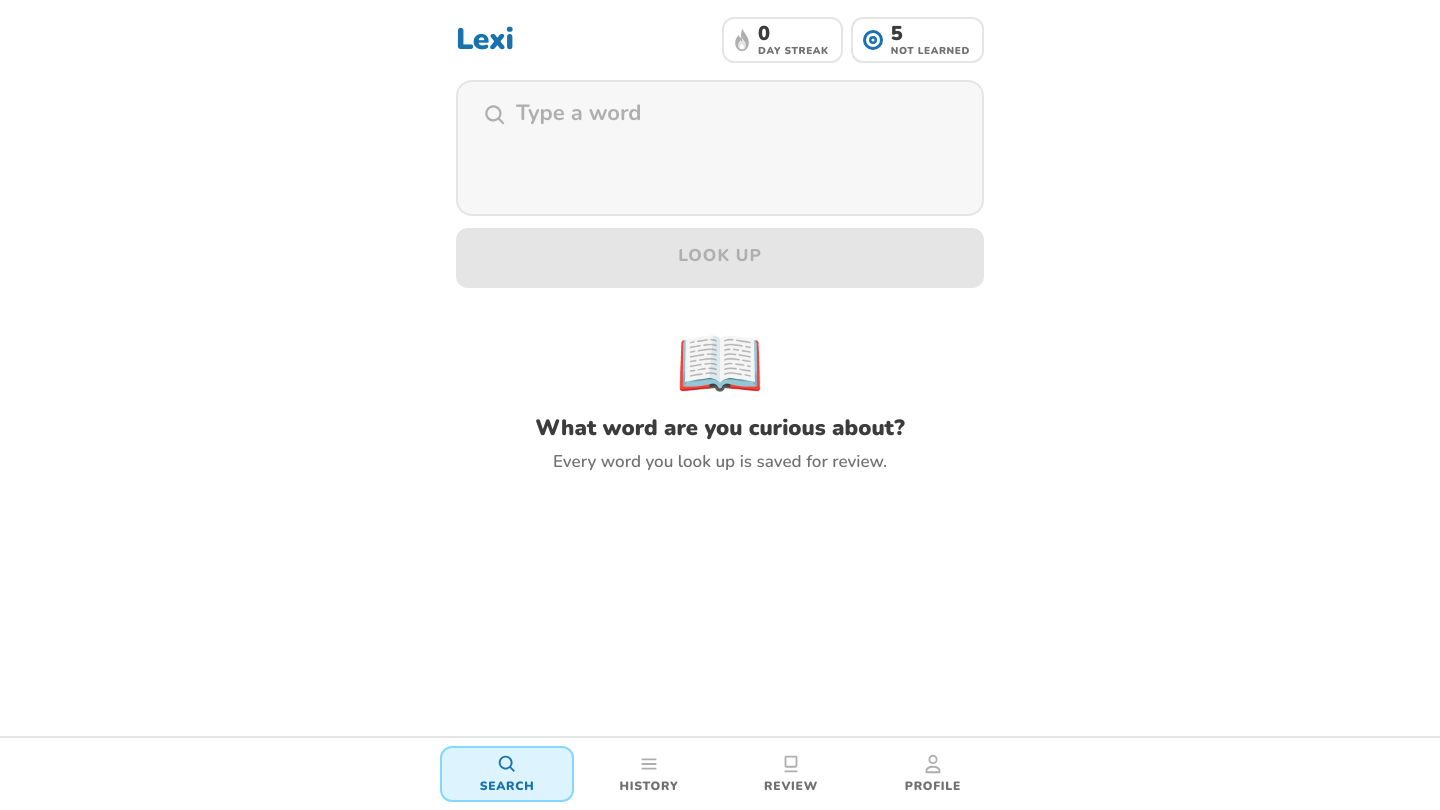
Lexi › five reviewed cards in a day make a streak, and the Streak screen shows it
This screenshot has width=1440, height=810.
Later steps or results of the test are not shown.
Step 1. Click the button with aria-label "Streak: 0 days" → (782, 40), box [722,17,843,63]
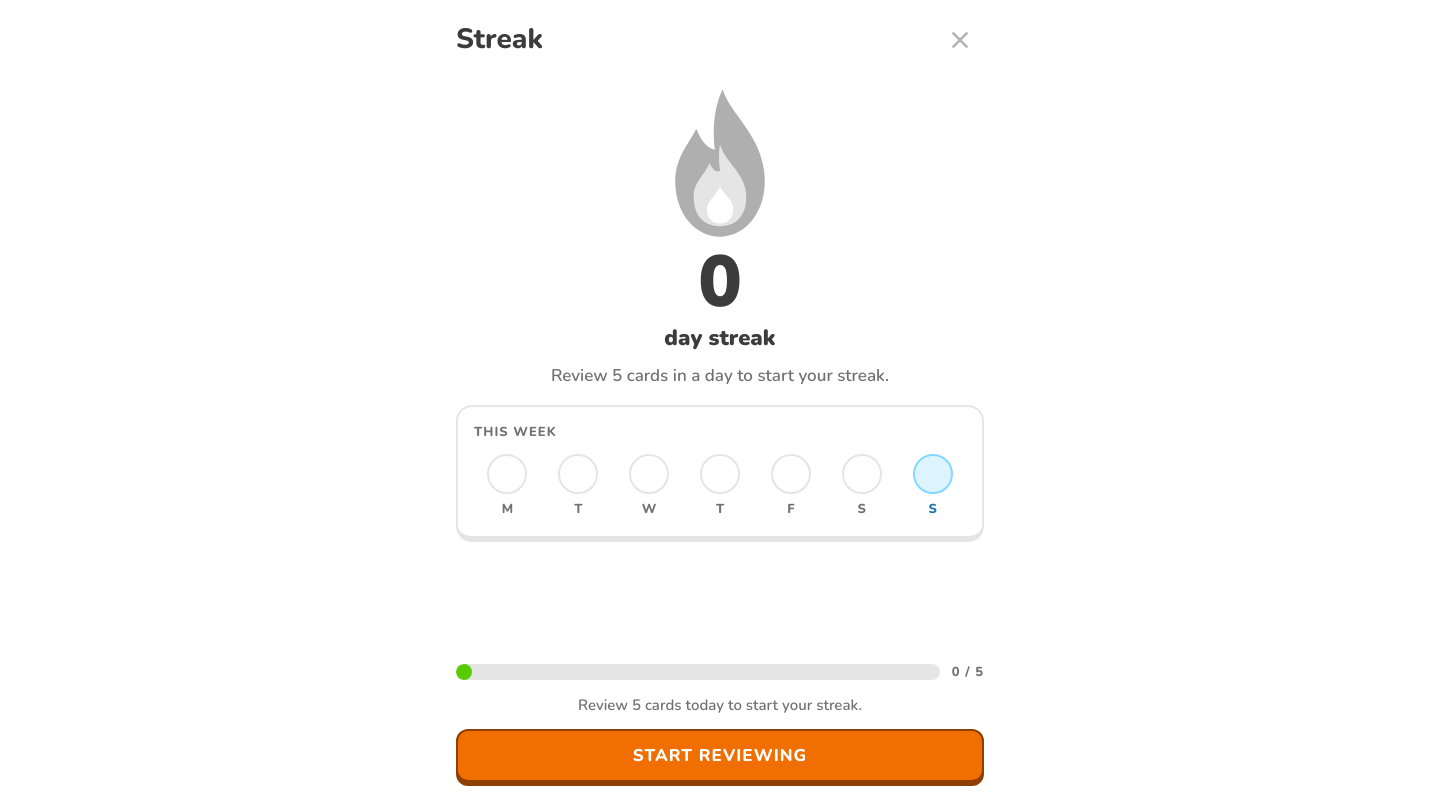
Check: the heading "Streak" is shown, box [456,23,543,57]
Check: the text "Review 5 cards in a day to start your streak." is shown, box [551,363,889,388]
Check: the text "0 / 5" is shown, box [952,662,984,682]
